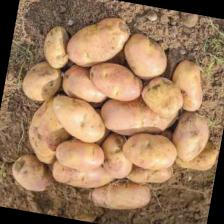potato: (61, 8, 132, 74), (96, 90, 178, 143), (22, 90, 78, 166), (44, 92, 110, 144), (117, 127, 179, 173), (118, 29, 170, 82), (84, 58, 144, 103), (88, 174, 152, 215), (167, 107, 211, 162), (166, 56, 208, 112), (138, 74, 186, 122), (18, 56, 63, 104), (51, 135, 106, 173), (95, 130, 136, 180), (38, 22, 72, 70)
